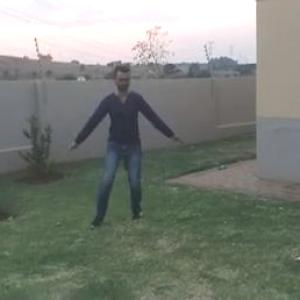land: (61, 54, 179, 230)
